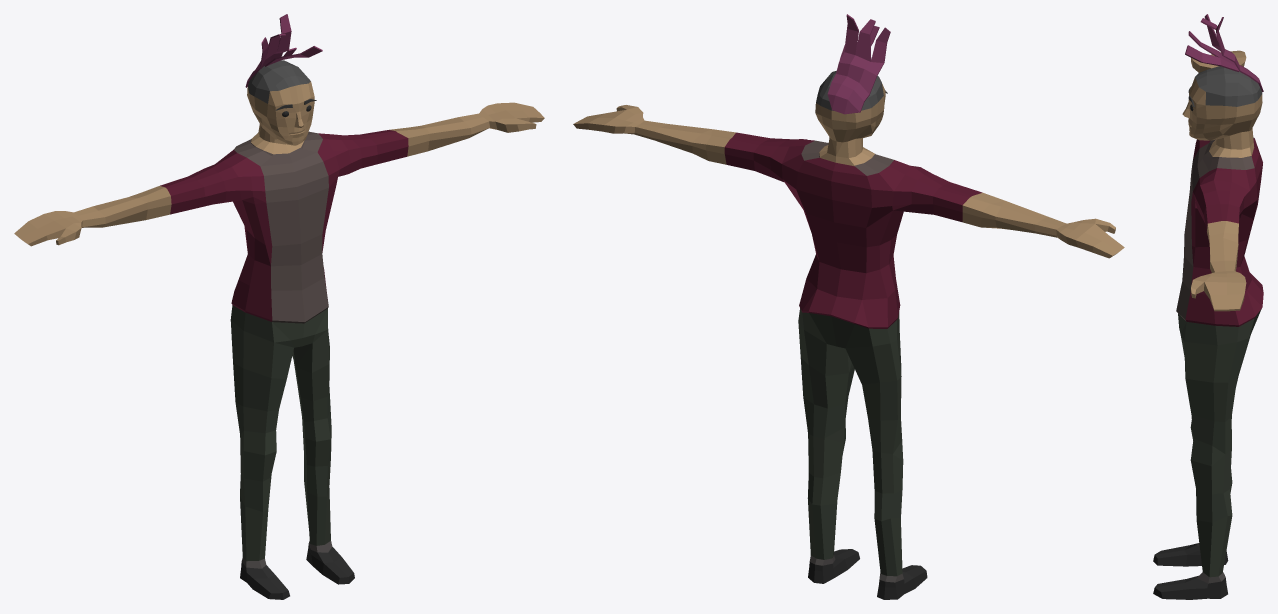
The model's file is punk.fbx.
3 views of the same model, side by side, from view 1: azimuth 30°, elevation 25°; view 2: azimuth 150°, elevation 25°; view 3: azimuth 270°, elevation 25° (orthographic). The views are drawn at different scales.
Visible parts, largest first — view 1: punk; view 2: punk; view 3: punk.
Boxes of the visible parts, <box> form: punk: <box>14,14,544,599</box>; punk: <box>573,14,1124,599</box>; punk: <box>1153,14,1263,599</box>.
Bounding box in the file's own units: 520 × 528 × 94.19.
